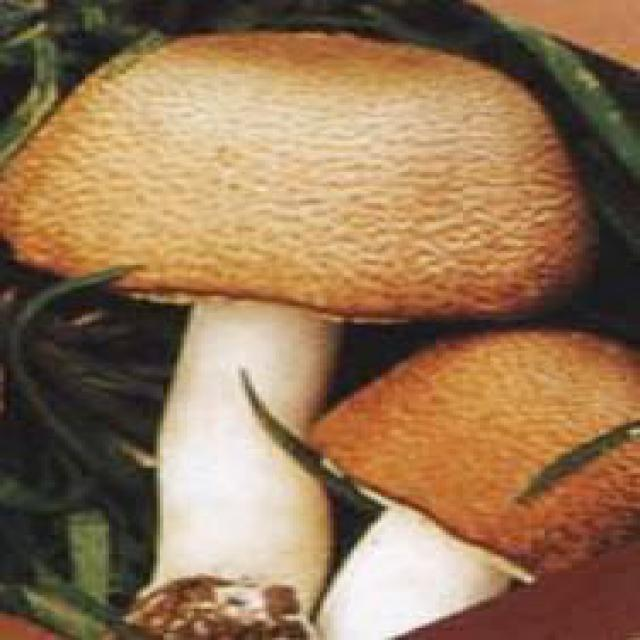Agaricus blazei Murill: (11, 32, 584, 631), (317, 328, 634, 630)
